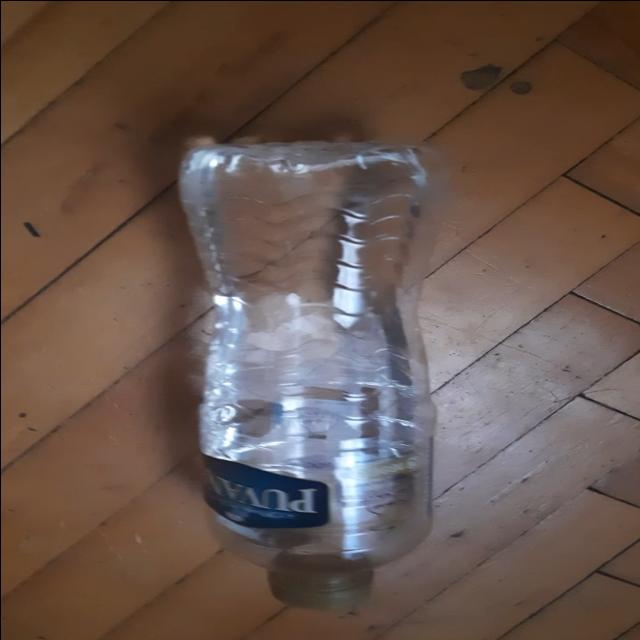Plastic: (176, 138, 435, 614)
